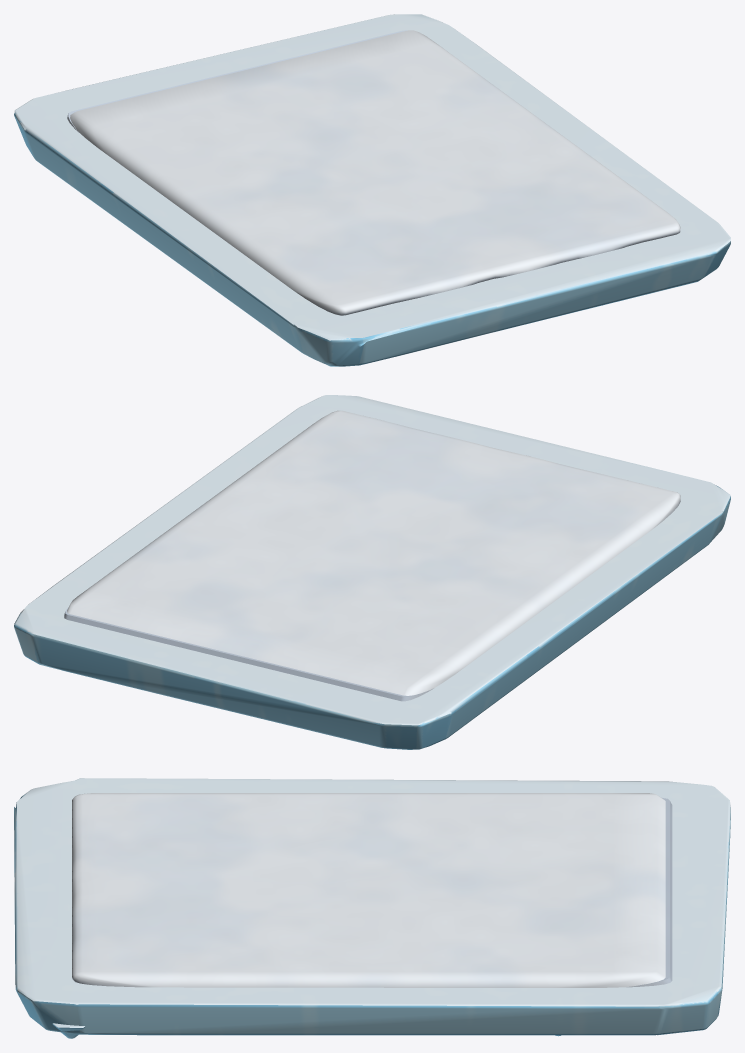
Rendered from FP_G05_IceMoverPlatform.fbx.
The picture shows the model from 3 angles, top to bottom: view 1: azimuth 30°, elevation 25°; view 2: azimuth 150°, elevation 25°; view 3: azimuth 270°, elevation 25°; orthographic projection. The views are drawn at different scales.
Visible parts, largest first — view 1: SnowCap, Slab; view 2: SnowCap, Slab; view 3: SnowCap, Slab.
Part boxes in pixels (<box>): SnowCap: <box>67,30,680,315</box>; Slab: <box>14,14,730,366</box>; SnowCap: <box>64,410,680,701</box>; Slab: <box>14,395,730,749</box>; SnowCap: <box>72,793,672,987</box>; Slab: <box>14,778,730,1038</box>.
Bounding box in the file's own units: 2.96 × 0.3866 × 3.96.
